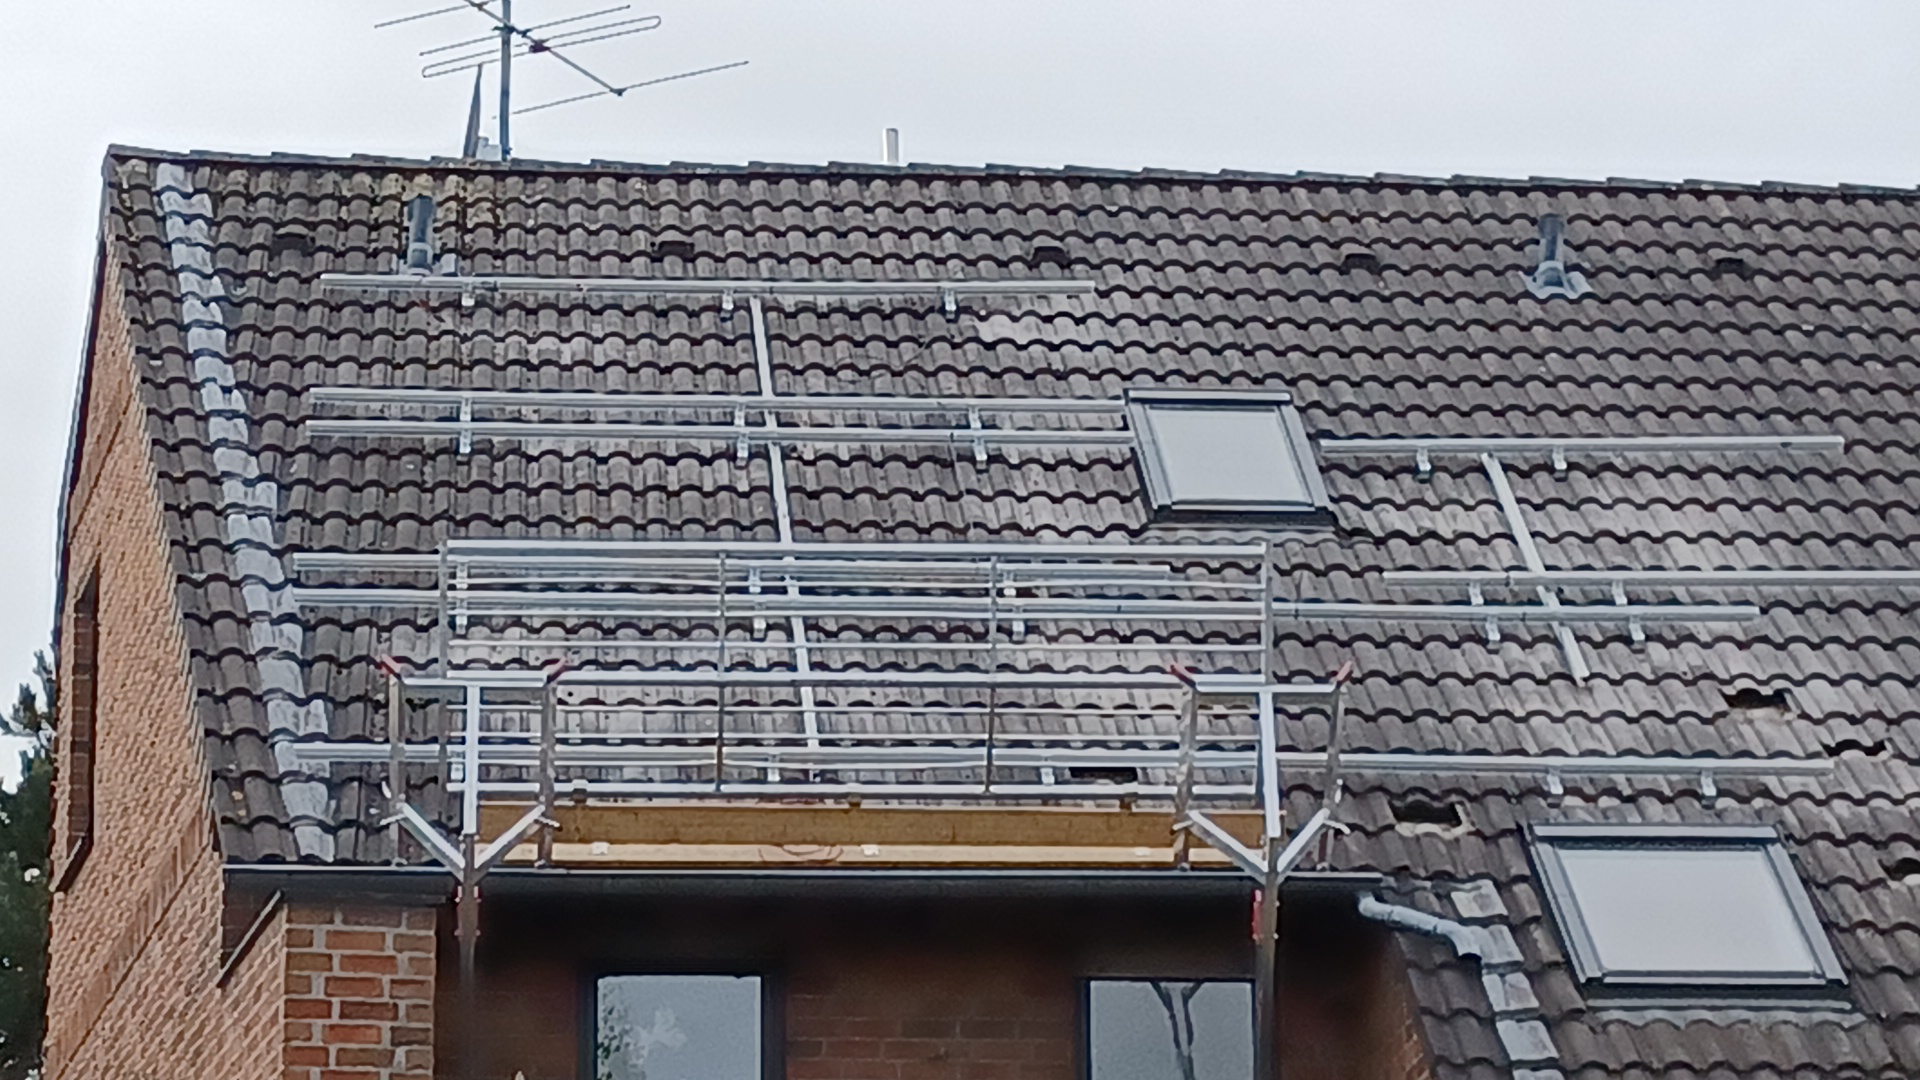hook: (1545, 764, 1564, 806), (1700, 767, 1717, 808), (1627, 613, 1644, 651), (1551, 443, 1568, 480), (1415, 447, 1431, 481), (1486, 615, 1501, 651), (753, 600, 766, 640), (1011, 604, 1025, 642), (1611, 578, 1629, 607), (973, 436, 988, 469), (719, 287, 733, 319), (1466, 579, 1484, 605), (455, 597, 467, 634), (456, 429, 469, 462), (450, 752, 464, 781), (462, 280, 473, 314), (736, 431, 748, 465), (1002, 570, 1017, 597), (748, 566, 761, 593), (968, 404, 982, 429), (945, 287, 956, 320), (455, 563, 468, 589), (767, 757, 781, 783), (460, 396, 471, 421), (735, 404, 745, 426), (1040, 767, 1054, 785)
